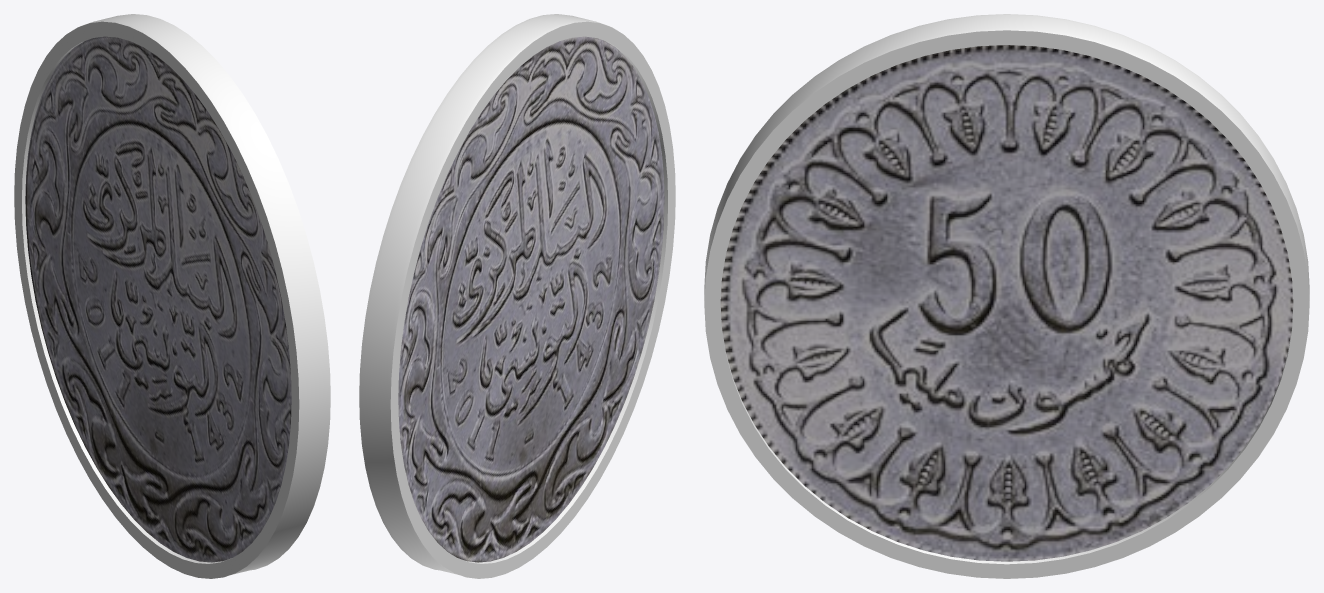
3 renders of one model, left to right at view 1: azimuth 30°, elevation 25°; view 2: azimuth 150°, elevation 25°; view 3: azimuth 270°, elevation 25°, orthographic. The views are drawn at different scales.
Parts seen in each view (by area): view 1: Cylinder.002; view 2: Cylinder.002; view 3: Cylinder.002.
Part boxes in pixels (left/top/right/bottom): Cylinder.002: left=14, top=14, right=330, bottom=578; Cylinder.002: left=359, top=14, right=675, bottom=578; Cylinder.002: left=704, top=14, right=1309, bottom=578.
Bounding box in the file's own units: 0.0856 × 1.34 × 1.34.
3 materials, 2 textured.
